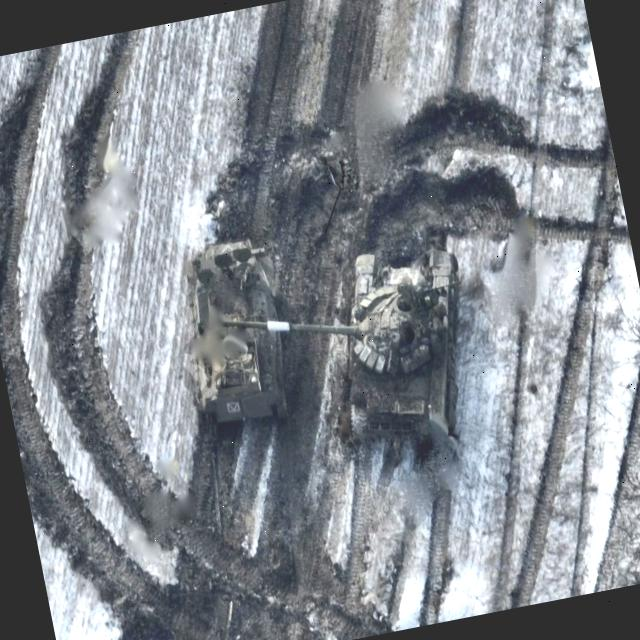AIFV: (214, 237, 508, 485), (172, 232, 304, 434)
